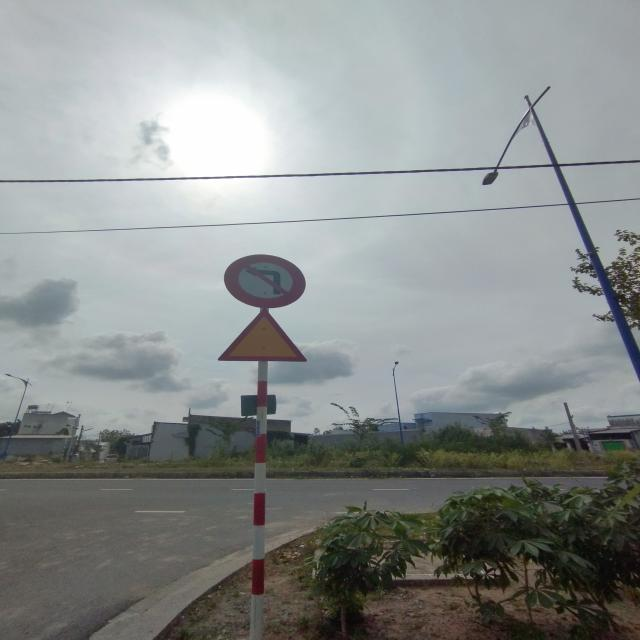Cam_Re_Trai: (224, 253, 307, 308)
Gioi_Han_Toc_Do_25: (217, 308, 308, 362)
